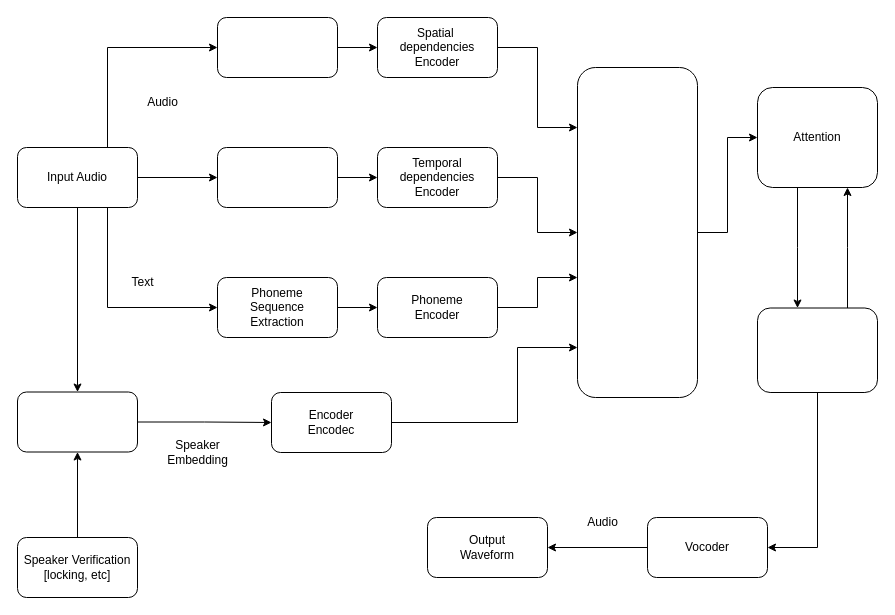
The diagram is 895 pixels wide and 615 high, and some of its shapes have lost their labels. Each missing label, with the centre of its shape:
Concatenation of Encoders: the point at 637,232
Decoder: the point at 817,349
MFCC: the point at 77,421
Spatial Dependencies: the point at 277,47
Temporal Dependencies: the point at 277,177
